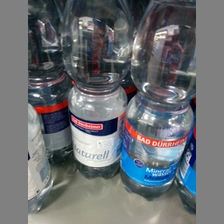water: (120, 1, 195, 201), (58, 1, 133, 181)
